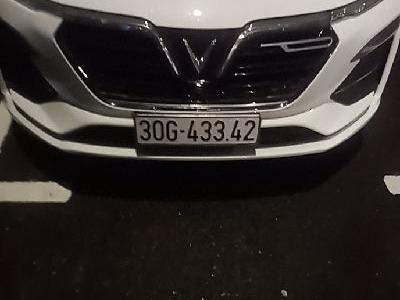number: (134, 110, 258, 147)
